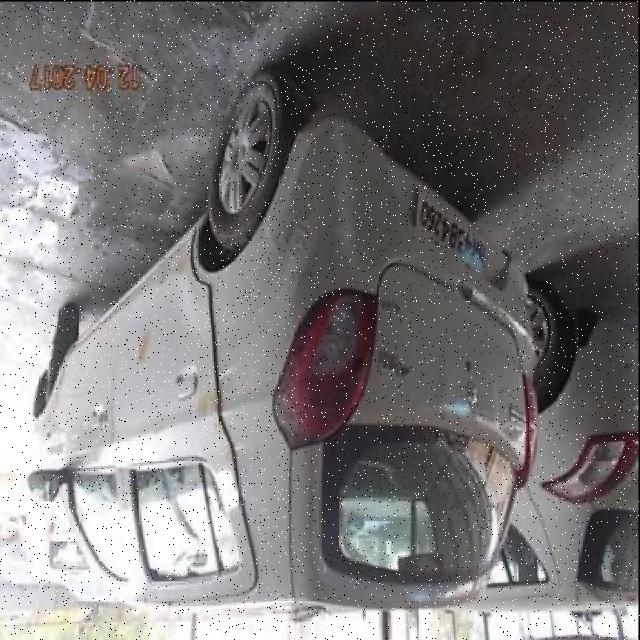damage: (195, 382, 236, 481), (289, 206, 314, 259), (135, 327, 155, 362), (349, 343, 369, 373), (173, 249, 189, 281), (159, 264, 172, 286)
